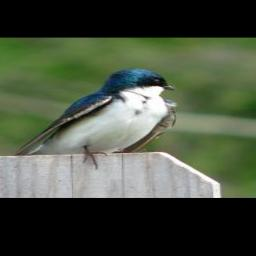Swallow: (11, 66, 180, 170)
